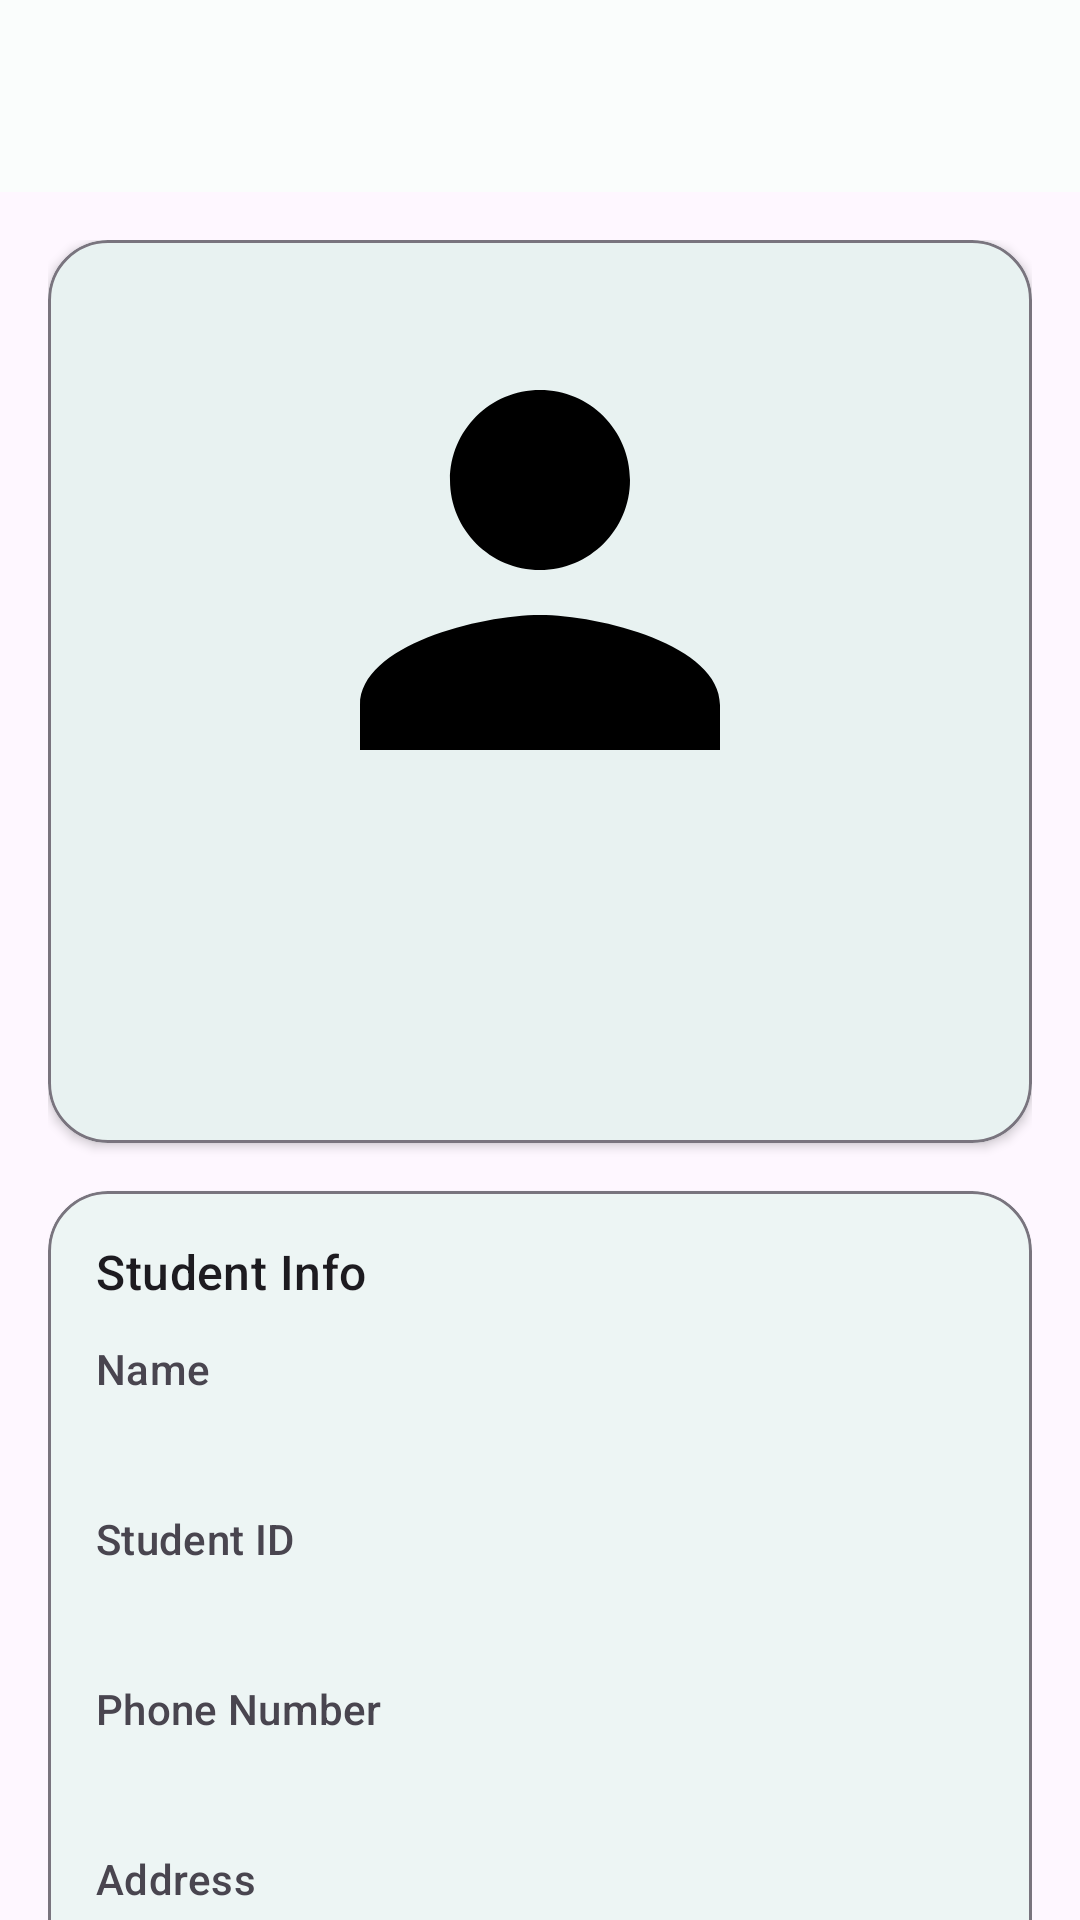

Where to tap for icons on this 1080px x 1920px app screen, as (x,y):
person: (540,570)
